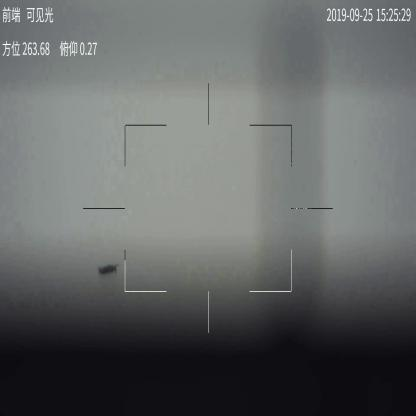uav: (98, 262, 118, 274)
